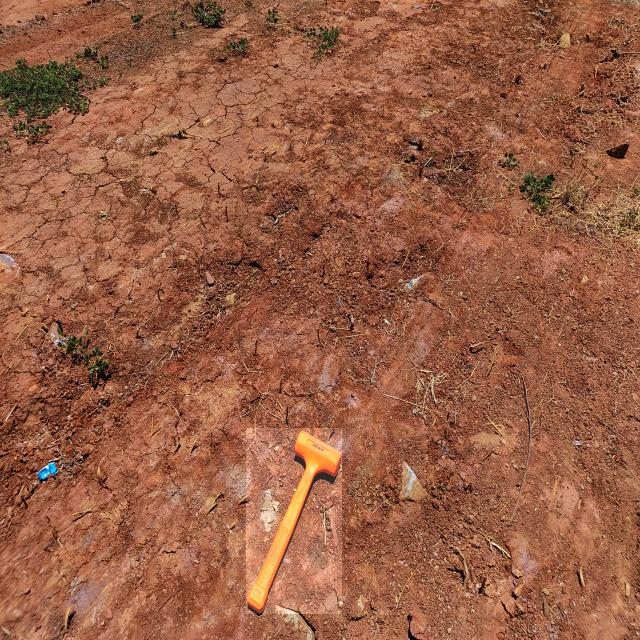Orange_hammer: (246, 428, 342, 614)
